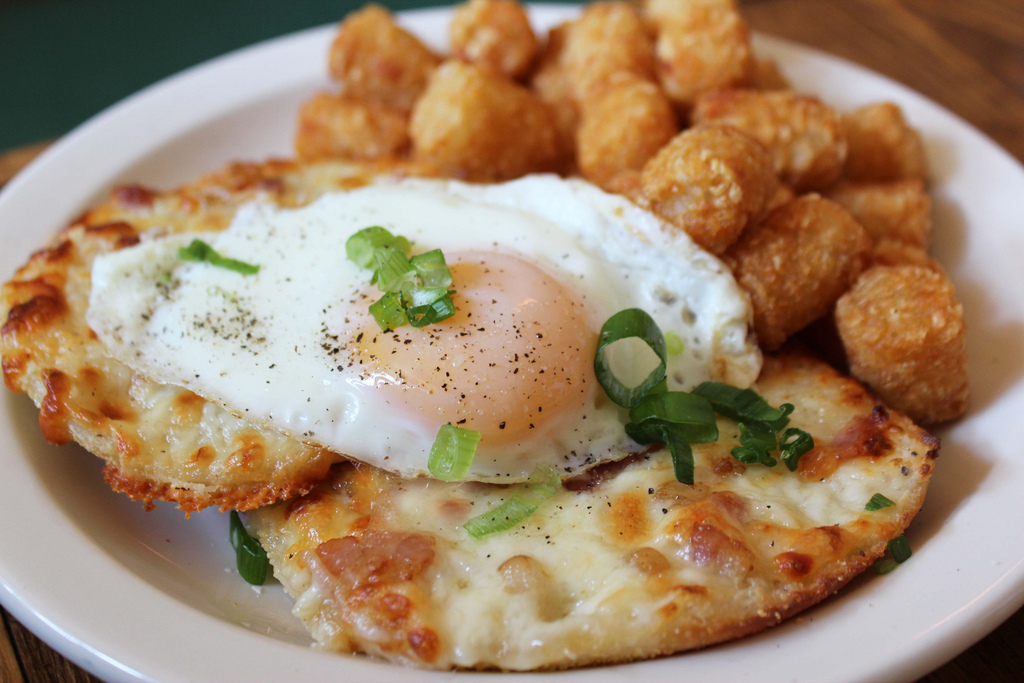fried egg: (145, 191, 674, 465)
